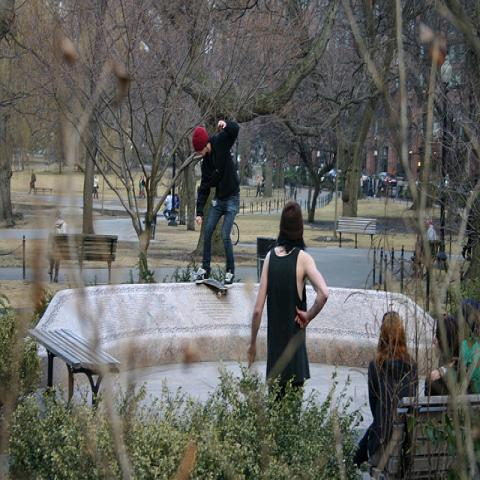car: (320, 169, 342, 194), (362, 175, 385, 196), (380, 173, 398, 187), (195, 184, 201, 205), (360, 171, 371, 179)
